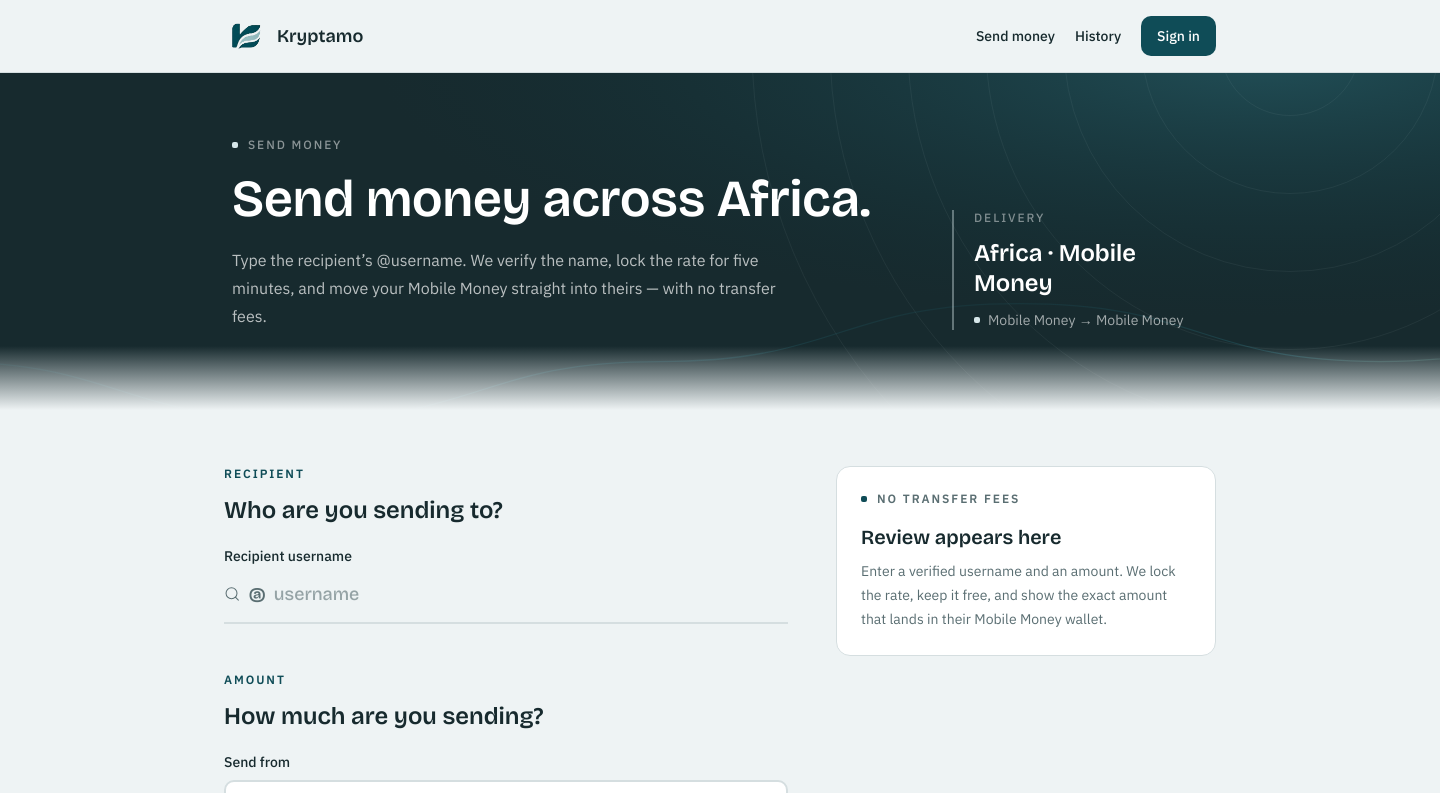
Scenario: SendView › reports an unverifiable Mobile Money account
In the field with id "handle": [531, 594] box [274,574,788,614], type "yaw"
Wait 1200 ms
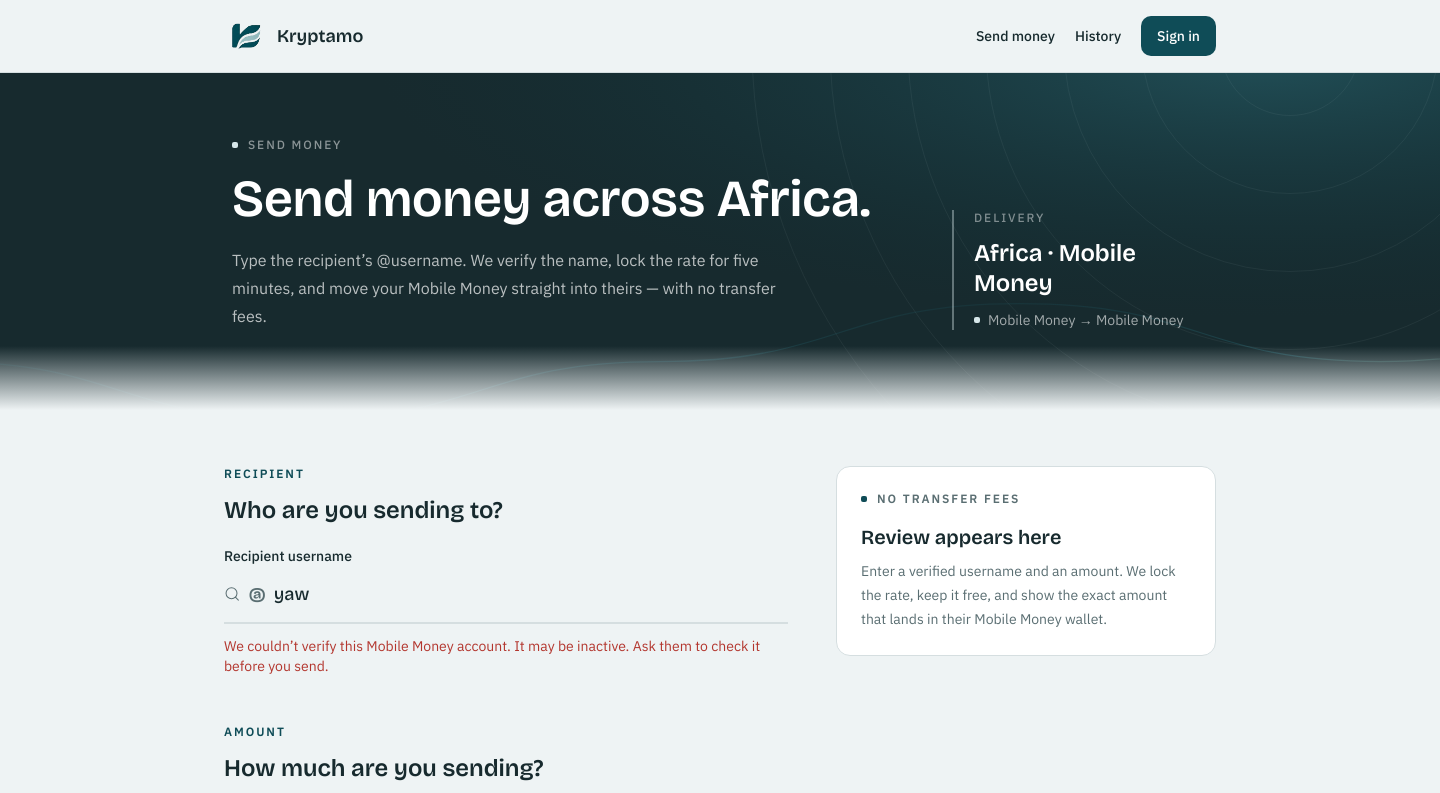
Now the text "couldn’t verify this Mobile Money account" is shown, box [224,637,760,675]
